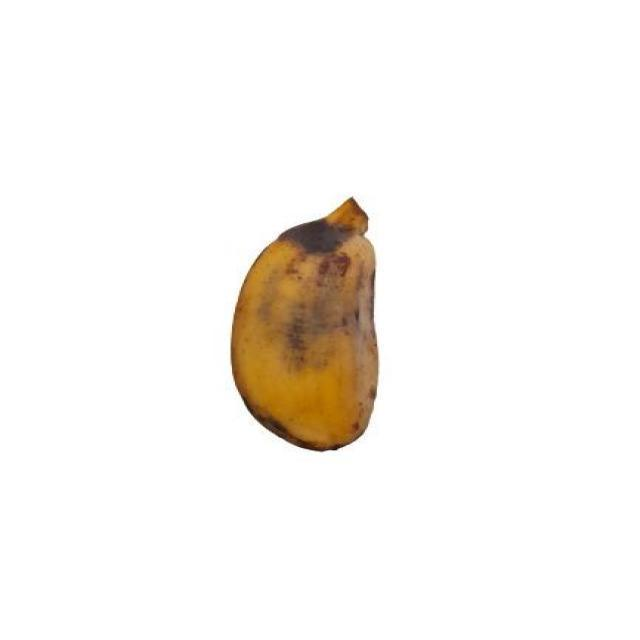Banana: (220, 195, 393, 454)
